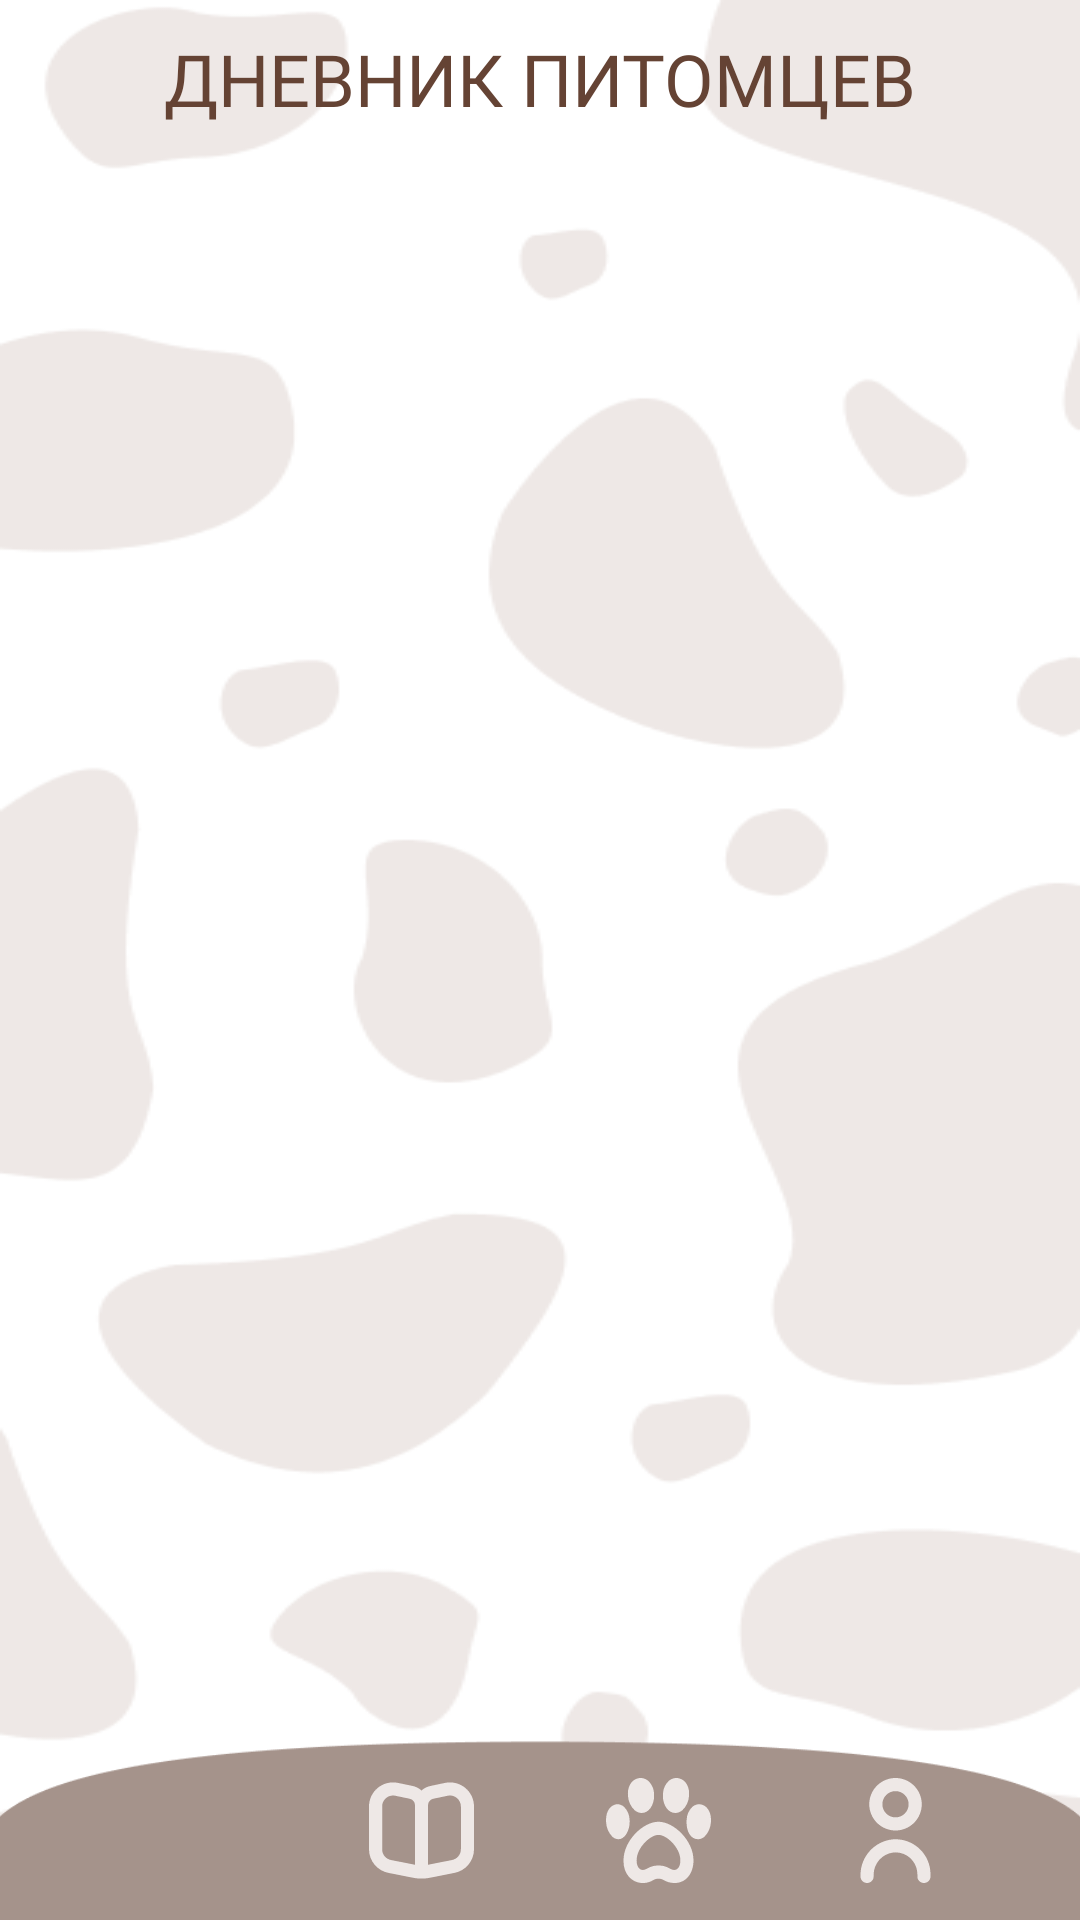

Icons on this 1080 × 1920 Android screen, each with the point to tap as (x=x, y=y):
diary: (x=421, y=1830)
pets: (x=658, y=1830)
profile: (x=895, y=1830)
